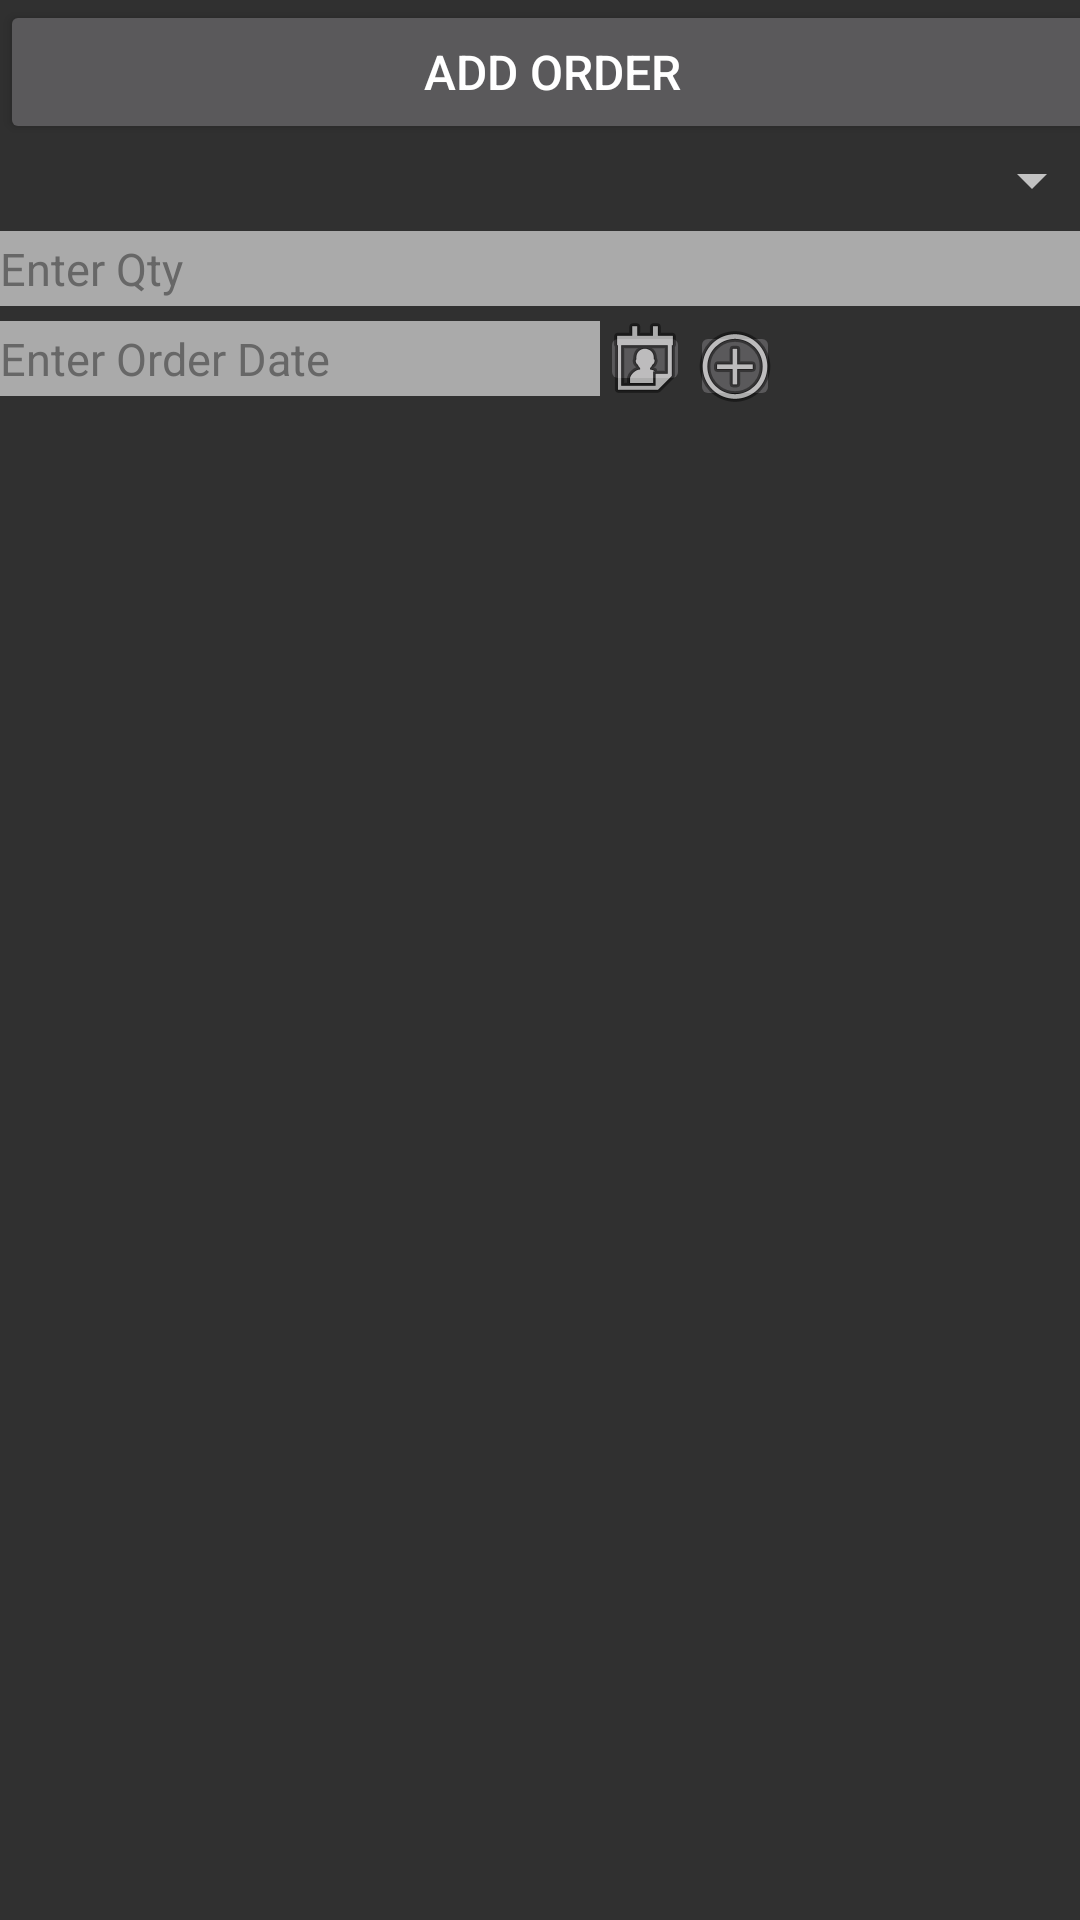

Named icons in this screenshot (1080*1920) and their centers, [x,y]:
Plus: [735,366]
